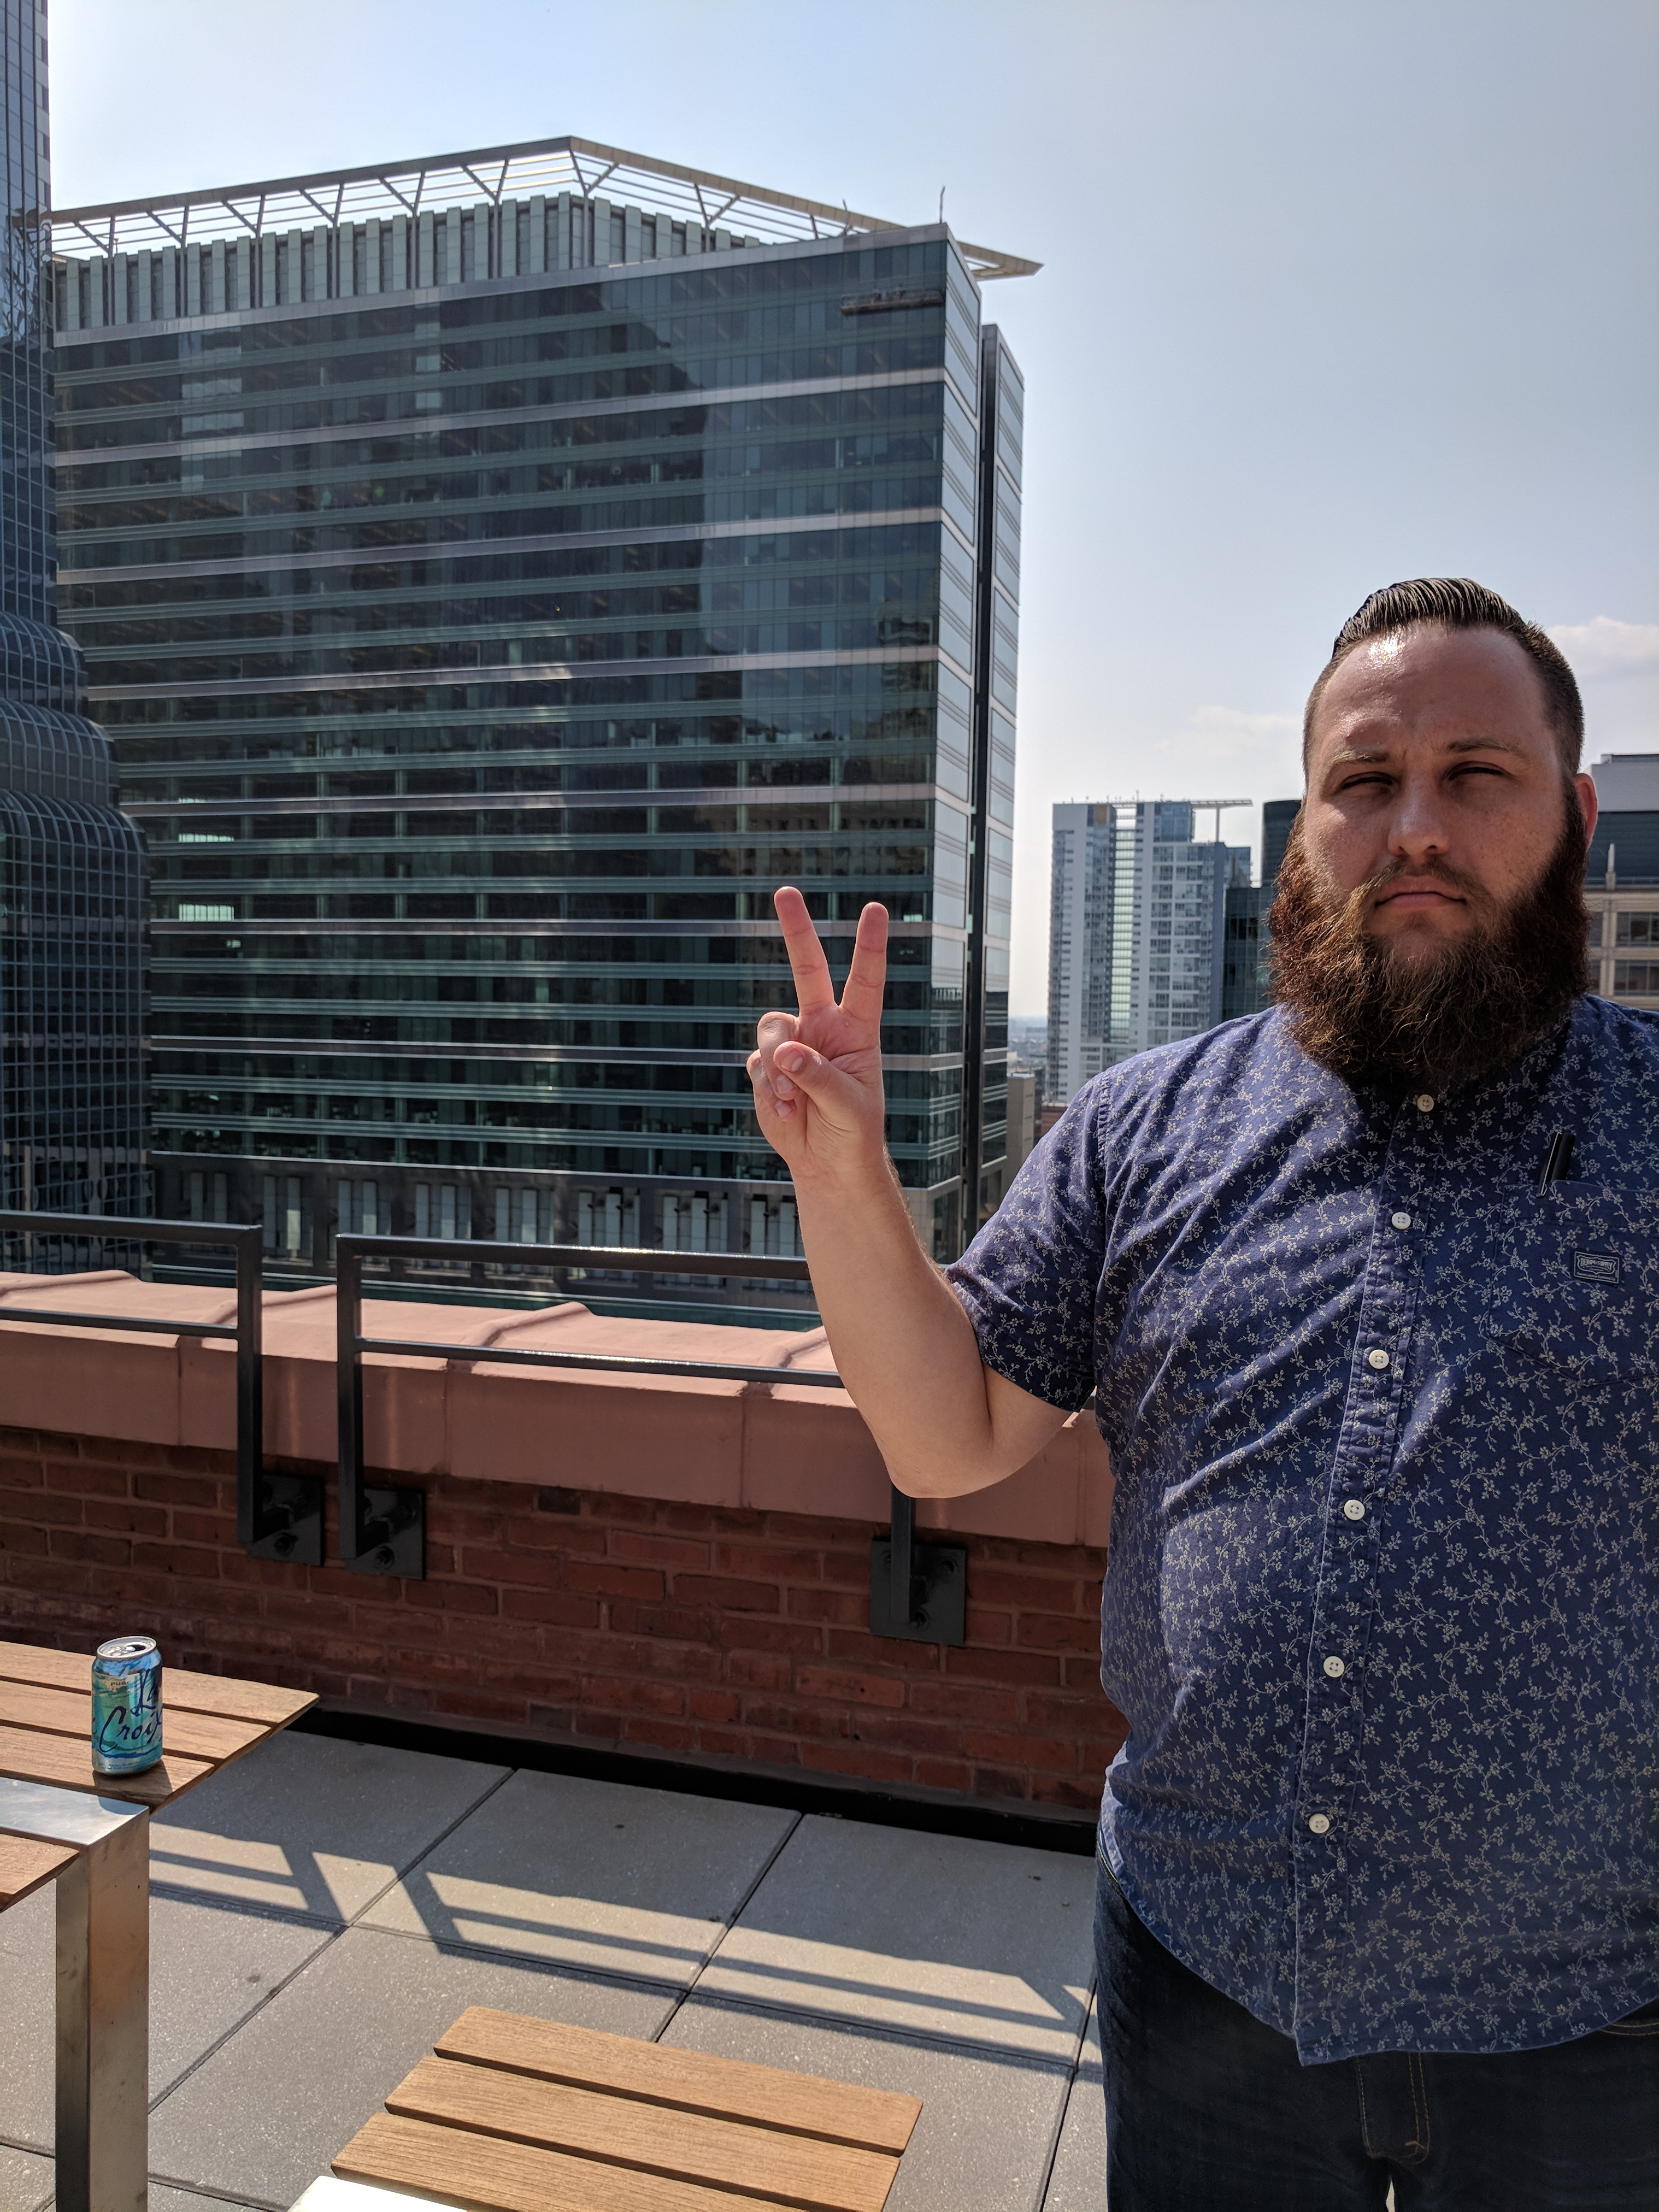v: (725, 878, 913, 1179)
